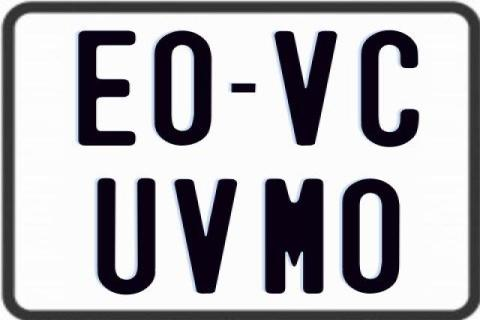0: (339, 179, 401, 295), (152, 31, 210, 150)
C: (360, 30, 419, 152)
E: (75, 30, 134, 148)
M: (262, 177, 321, 293)
U: (95, 178, 159, 296)
V: (174, 179, 241, 297), (271, 31, 340, 145)
